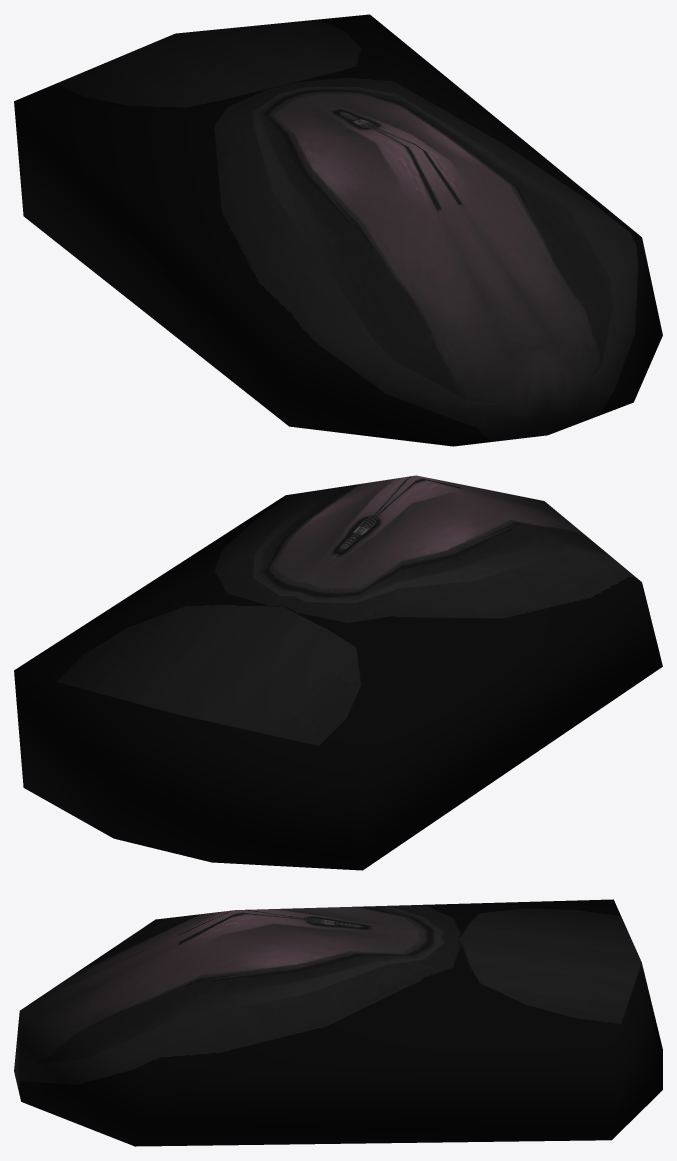
File: Mouse.fbx
3 views of the same model, one above another, from view 1: azimuth 30°, elevation 25°; view 2: azimuth 150°, elevation 25°; view 3: azimuth 270°, elevation 25° (orthographic). The views are drawn at different scales.
Visible parts, largest first — view 1: Plane; view 2: Plane; view 3: Plane.
Part boxes in pixels (left/top/right/bottom): Plane: left=14, top=14, right=662, bottom=446; Plane: left=14, top=475, right=662, bottom=870; Plane: left=14, top=899, right=662, bottom=1146.
Size of the model in its own units: 276 by 135 by 493.
1 material, 1 textured.
